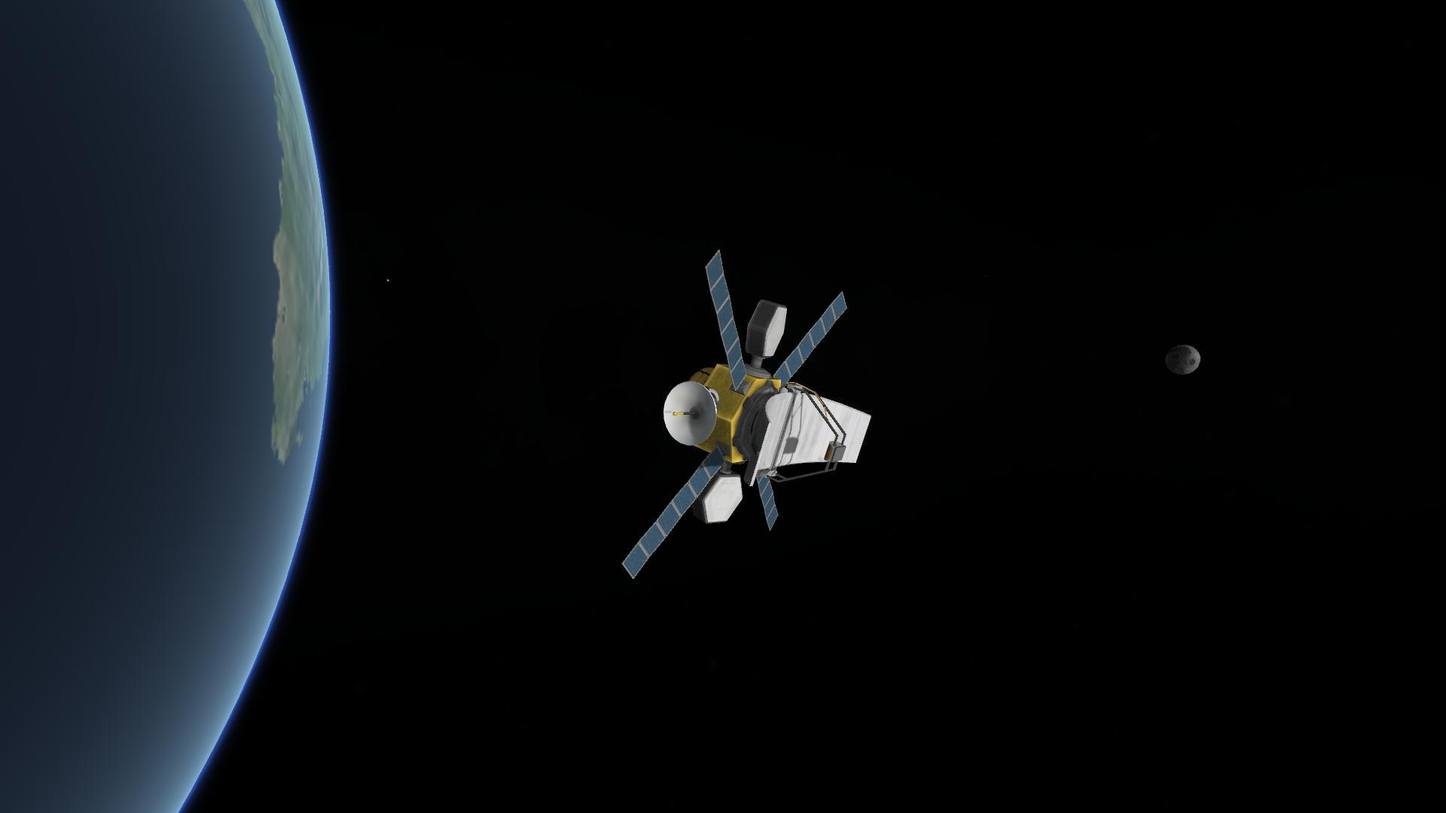antenna: (743, 379, 874, 488), (662, 380, 718, 447), (690, 469, 745, 526), (743, 297, 789, 361)
body: (686, 362, 782, 465)
solar: (620, 445, 726, 582), (771, 291, 850, 390), (704, 248, 749, 392), (755, 472, 781, 532)
